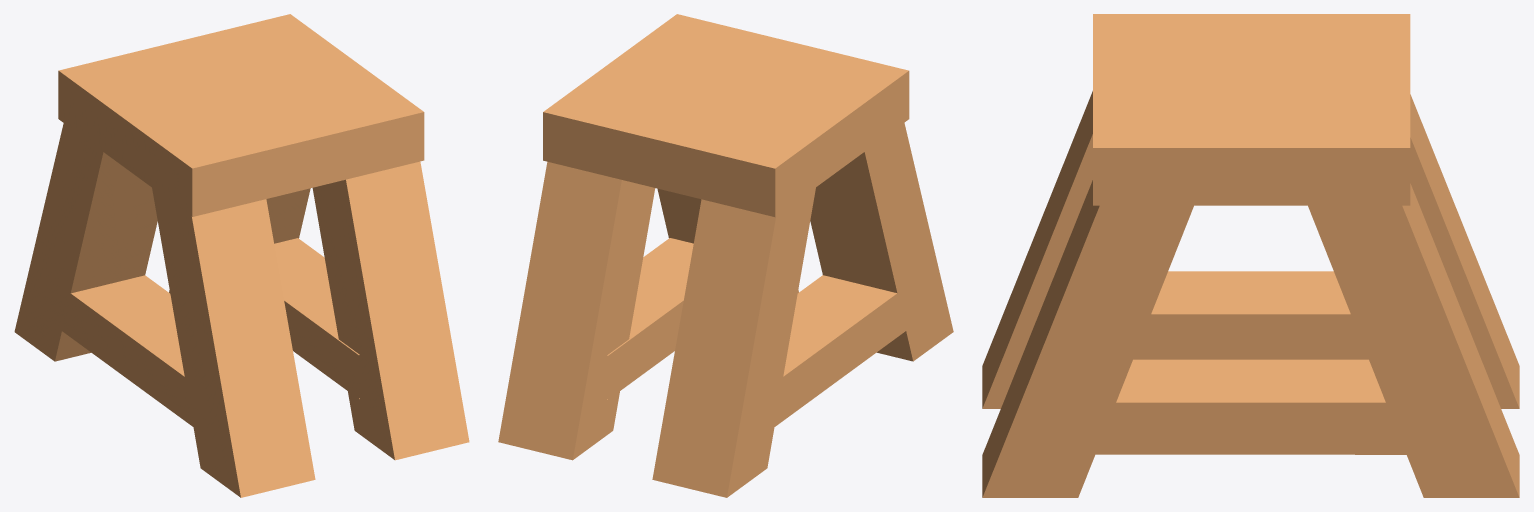
The model's file is stool_1.FBX.
3 renders of one model, left to right at view 1: azimuth 30°, elevation 25°; view 2: azimuth 150°, elevation 25°; view 3: azimuth 270°, elevation 25°, orthographic. The views are drawn at different scales.
Visible parts, largest first — view 1: stool_1; view 2: stool_1; view 3: stool_1.
Part boxes in pixels (<box>): stool_1: <box>14,14,469,497</box>; stool_1: <box>498,14,953,497</box>; stool_1: <box>982,14,1519,497</box>.
Bounding box in the file's own units: 0.4954 × 0.6038 × 0.8385.
1 material, 1 textured.
